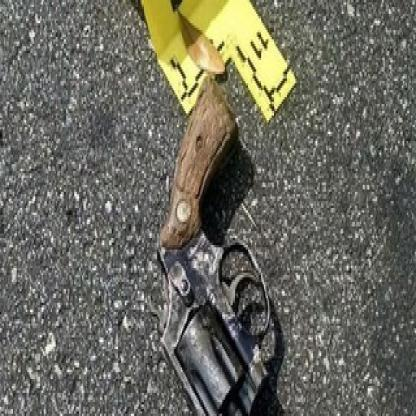gun: (133, 72, 303, 414)
